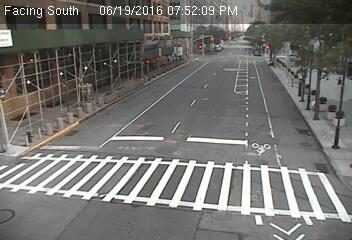neg: (310, 88, 333, 119), (247, 132, 263, 154), (122, 59, 135, 76)
